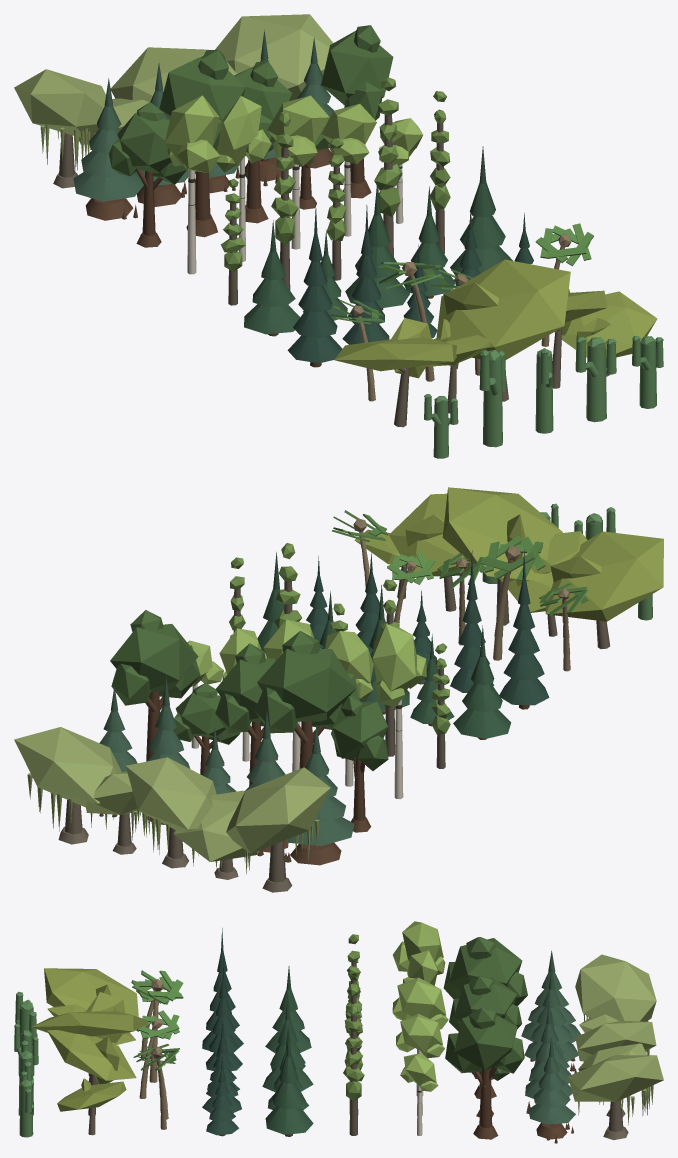
Rendered from tree-variants.glb.
3 renders of one model, top to bottom at view 1: azimuth 30°, elevation 25°; view 2: azimuth 150°, elevation 25°; view 3: azimuth 270°, elevation 25°, orthographic. The views are drawn at different scales.
Parts seen in each view (by area): view 1: acacia_2_canopy, willow_4_dome, willow_0_dome, spruce_0, swamp_cypress_0, oak_4_canopy_a, acacia_0_canopy, acacia_4_canopy, oak_1_canopy_a, pine_0, willow_2_dome, pine_4 (+43 smaller); view 2: acacia_0_canopy, acacia_2_canopy, willow_0_dome, willow_4_dome, oak_1_canopy_a, willow_2_dome, oak_4_canopy_a, spruce_0, pine_0, willow_1_dome, acacia_3_canopy, swamp_cypress_0 (+40 smaller); view 3: willow_0_dome, willow_4_dome, acacia_0_canopy, oak_4_canopy_a, acacia_3_canopy, pine_4, acacia_2_canopy, oak_1_canopy_a, willow_2_dome, swamp_cypress_4, swamp_cypress_1, birch_2_canopy_a (+42 smaller).
Boxes of the visible parts, x1,y1,x2,y2 form: acacia_2_canopy: [436, 259, 570, 359]; willow_4_dome: [215, 14, 333, 100]; willow_0_dome: [14, 69, 105, 137]; spruce_0: [287, 204, 342, 363]; swamp_cypress_0: [73, 78, 143, 219]; oak_4_canopy_a: [321, 30, 393, 104]; acacia_0_canopy: [334, 337, 456, 371]; acacia_4_canopy: [561, 291, 657, 359]; oak_1_canopy_a: [159, 56, 245, 120]; pine_0: [244, 220, 300, 334]; willow_2_dome: [110, 47, 208, 102]; pine_4: [450, 146, 512, 275]; acacia_0_canopy: [545, 531, 663, 621]; acacia_2_canopy: [442, 487, 562, 581]; willow_0_dome: [226, 767, 330, 853]; willow_4_dome: [14, 727, 121, 807]; oak_1_canopy_a: [257, 649, 356, 721]; willow_2_dome: [125, 757, 216, 831]; oak_4_canopy_a: [110, 624, 198, 691]; spruce_0: [499, 549, 549, 705]; pine_0: [453, 625, 511, 738]; willow_1_dome: [173, 790, 259, 861]; acacia_3_canopy: [389, 493, 471, 576]; swamp_cypress_0: [284, 725, 354, 862]; willow_0_dome: [575, 954, 656, 1021]; willow_4_dome: [568, 1055, 663, 1101]; acacia_0_canopy: [44, 968, 138, 1016]; oak_4_canopy_a: [454, 1008, 517, 1070]; acacia_3_canopy: [47, 1030, 136, 1080]; pine_4: [265, 1027, 313, 1134]; acacia_2_canopy: [31, 1011, 147, 1037]; oak_1_canopy_a: [449, 938, 522, 991]; willow_2_dome: [575, 1020, 656, 1061]; swamp_cypress_4: [528, 1036, 575, 1143]; swamp_cypress_1: [524, 966, 578, 1073]; birch_2_canopy_a: [397, 977, 446, 1018].
Size of the model in its own units: 14.13 by 7.97 by 31.75.
